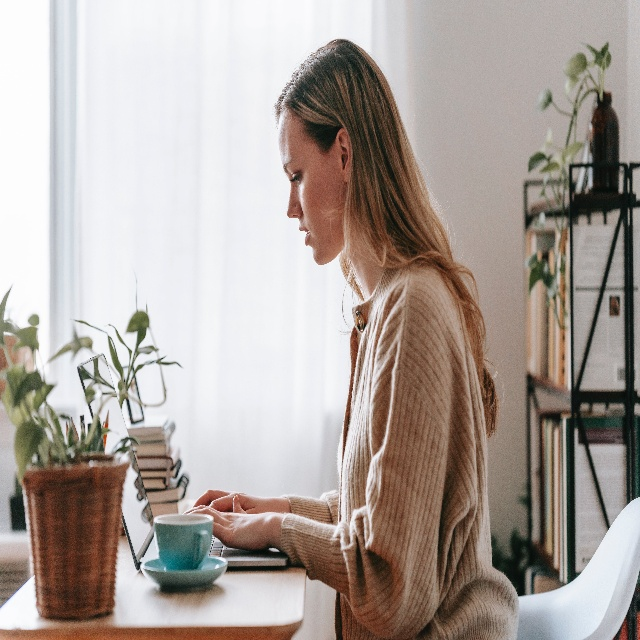Sin_guantes: (182, 494, 273, 551), (192, 487, 267, 514)
